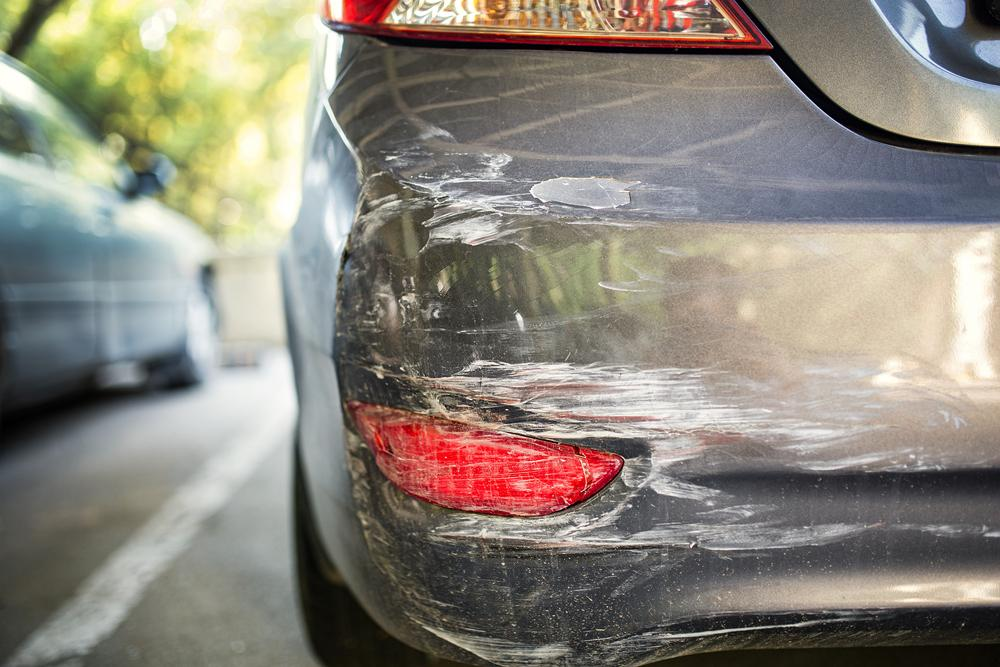scratch: (333, 146, 1000, 667)
